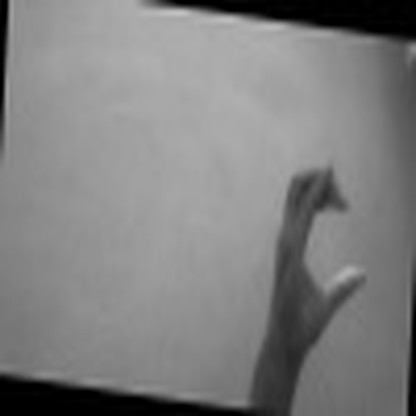c: (262, 151, 368, 349)
